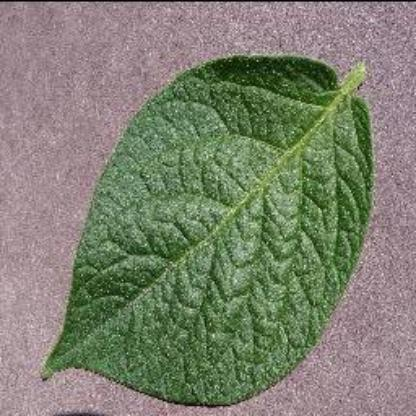Healthy-plant: (38, 52, 380, 406)
